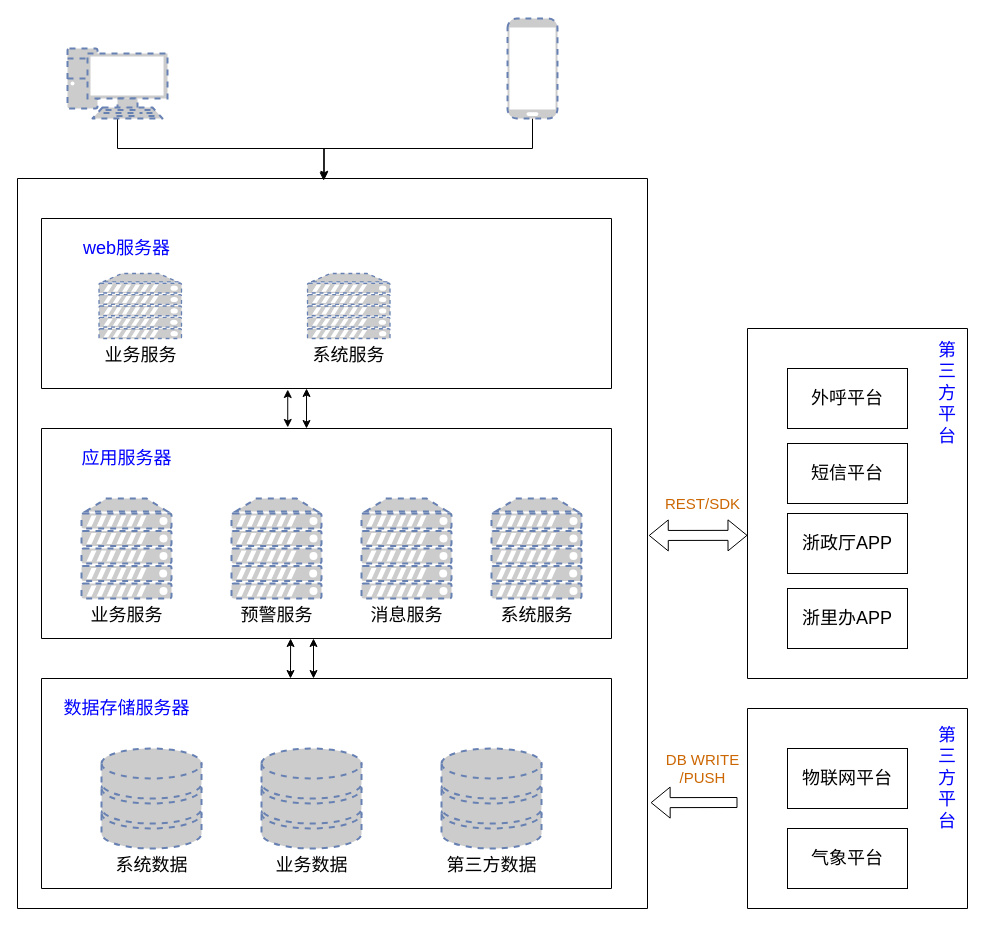
This 985x926 diagram has some shape labels left out. Here are the shapes that lost their labels. From the top down, the box of each, then its label:
(66, 47, 168, 119): PC端
(506, 17, 558, 119): 移动端
